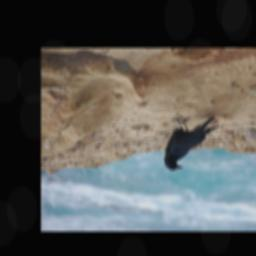Crow: (163, 114, 219, 173)
